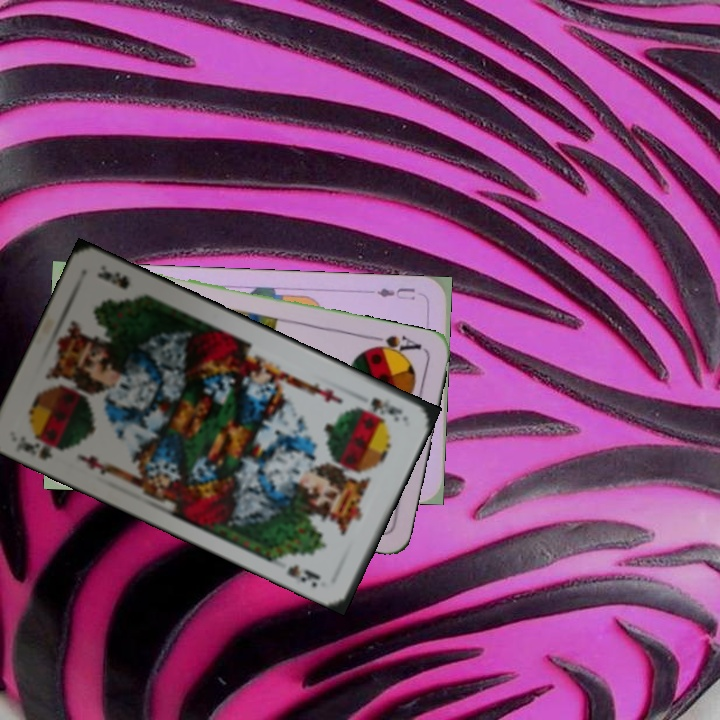EU: (372, 283, 418, 303)
SA: (364, 331, 424, 360)
SK: (19, 431, 68, 462), (366, 393, 405, 424)
